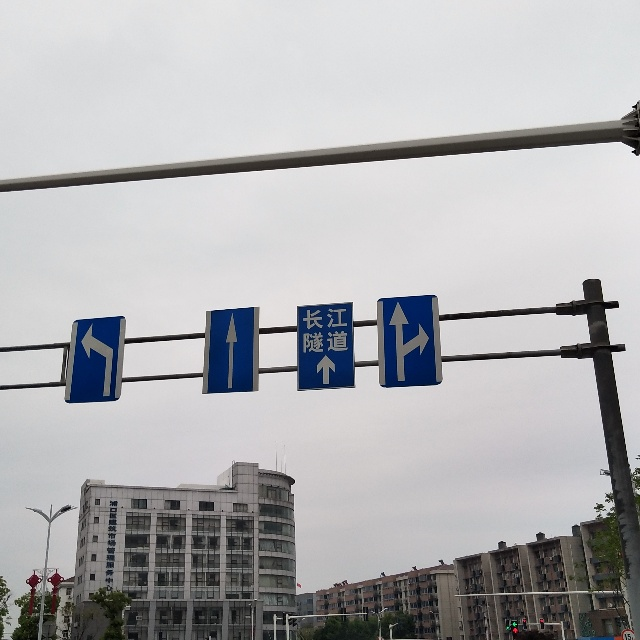left: (65, 317, 126, 405)
straight: (200, 304, 266, 397)
